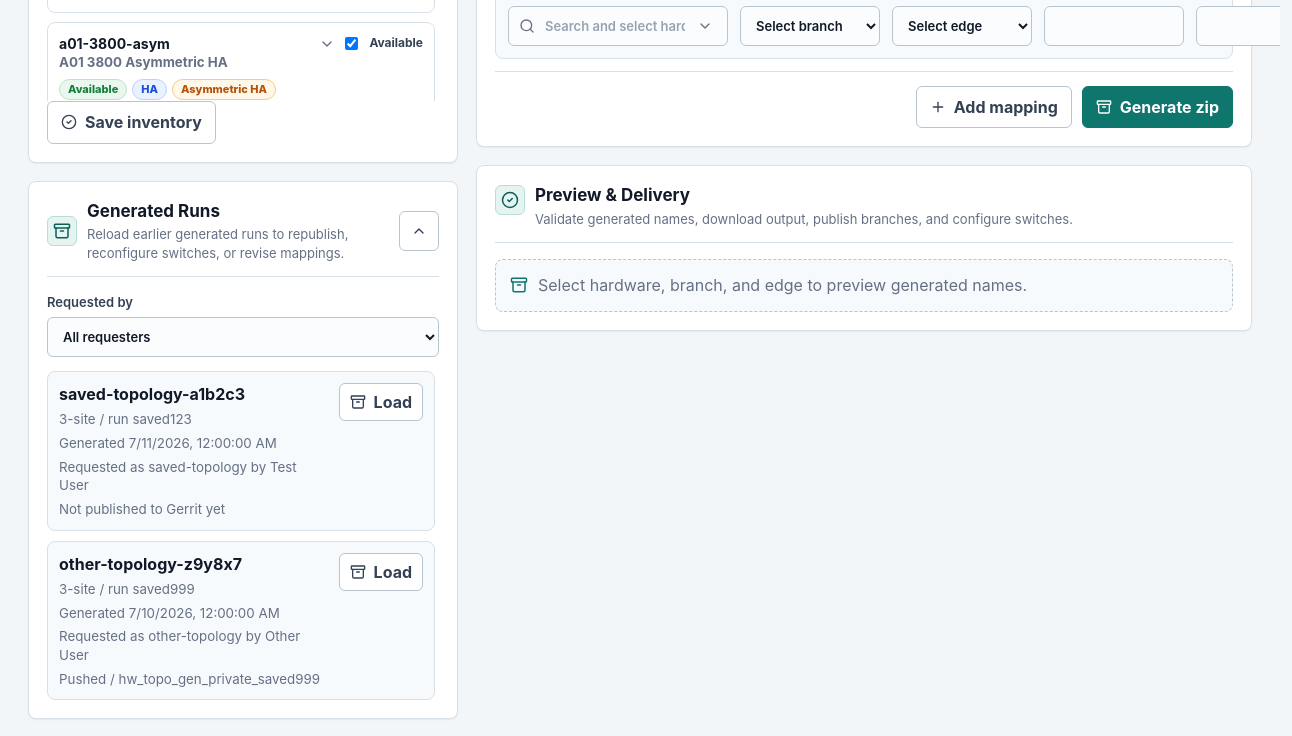
Test: App › filters generated runs by requested by
(page scrolled)
Expected: the text "saved-topology-a1b2c3" is shown, [59,384,245,404]
Expected: the text "other-topology-z9y8x7" is shown, [59,554,242,574]
Select "Test User (test@example.com)" in the dropdown named "Filter generated runs by requested by" at (243, 337), box [47,317,439,357]
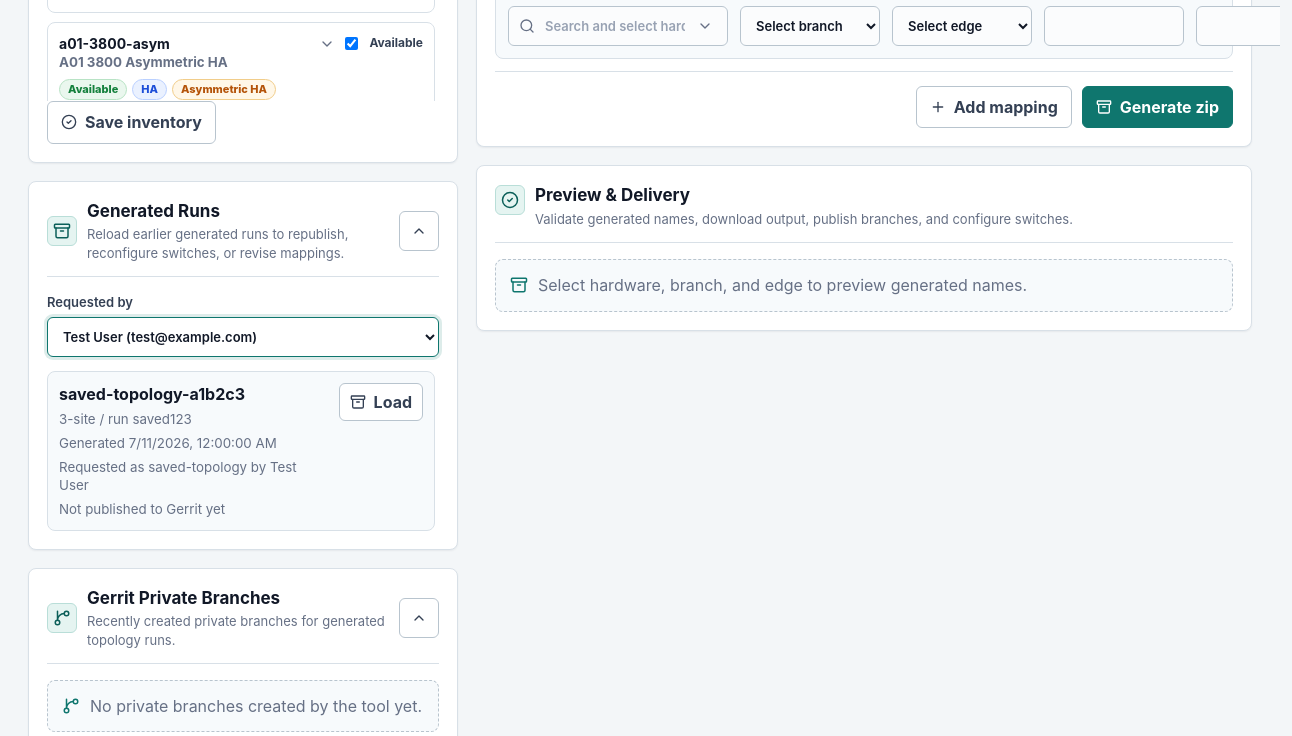
Expected: the text "saved-topology-a1b2c3" is shown, [59,384,245,404]
Expected: the text "other-topology-z9y8x7" is gone
